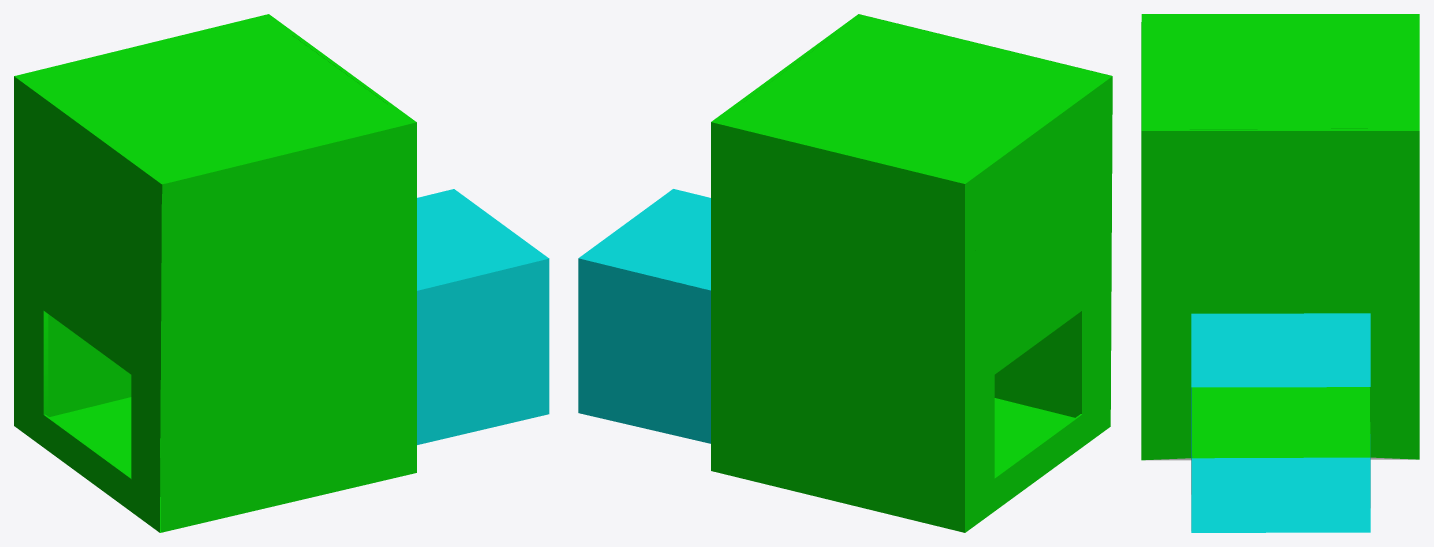
Rendered from comprassing macine for unity.fbx.
3 views of the same model, side by side, from view 1: azimuth 30°, elevation 25°; view 2: azimuth 150°, elevation 25°; view 3: azimuth 270°, elevation 25° (orthographic). The views are drawn at different scales.
Parts seen in each view (by area): view 1: pCube1; view 2: pCube1; view 3: pCube1.
Boxes of the visible parts, left/top/right/bottom form: pCube1: left=14, top=14, right=549, bottom=532; pCube1: left=578, top=14, right=1112, bottom=532; pCube1: left=1141, top=14, right=1419, bottom=532.
Size of the model in its own units: 1.63 by 1.32 by 1.01.
